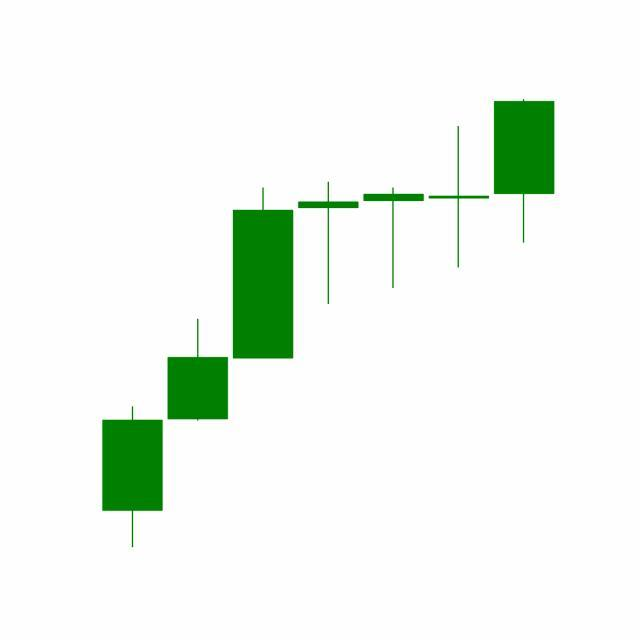Up-Down Gap Side-by-side White Lines: (295, 124, 492, 306)
